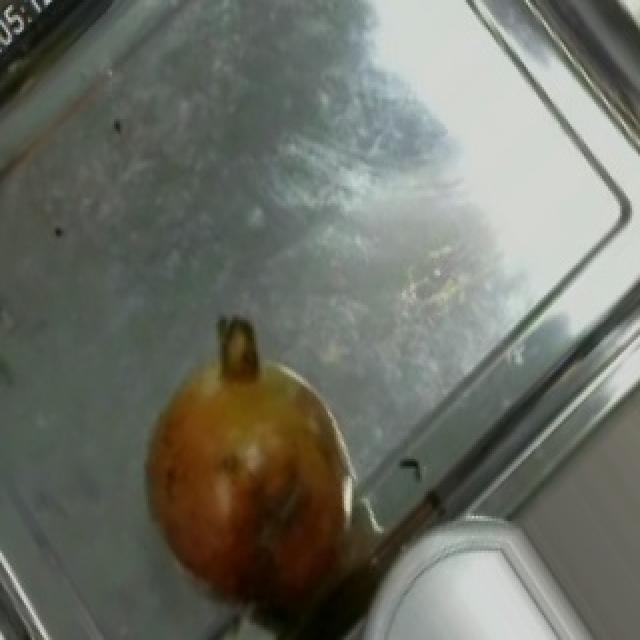fruit: (108, 322, 378, 603)
